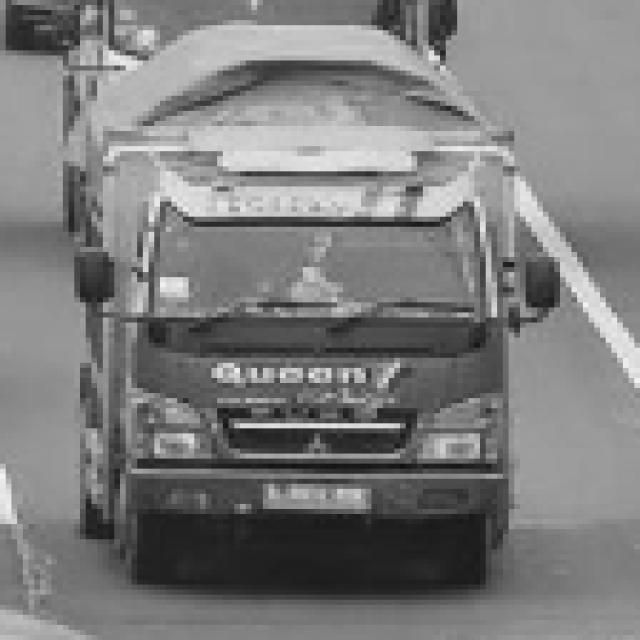Truck: (58, 26, 575, 586)
